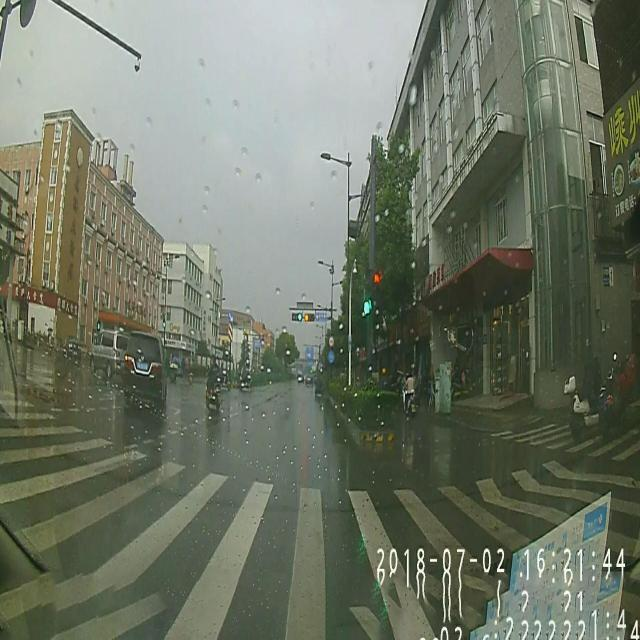car: (122, 330, 166, 410), (89, 329, 128, 374)
